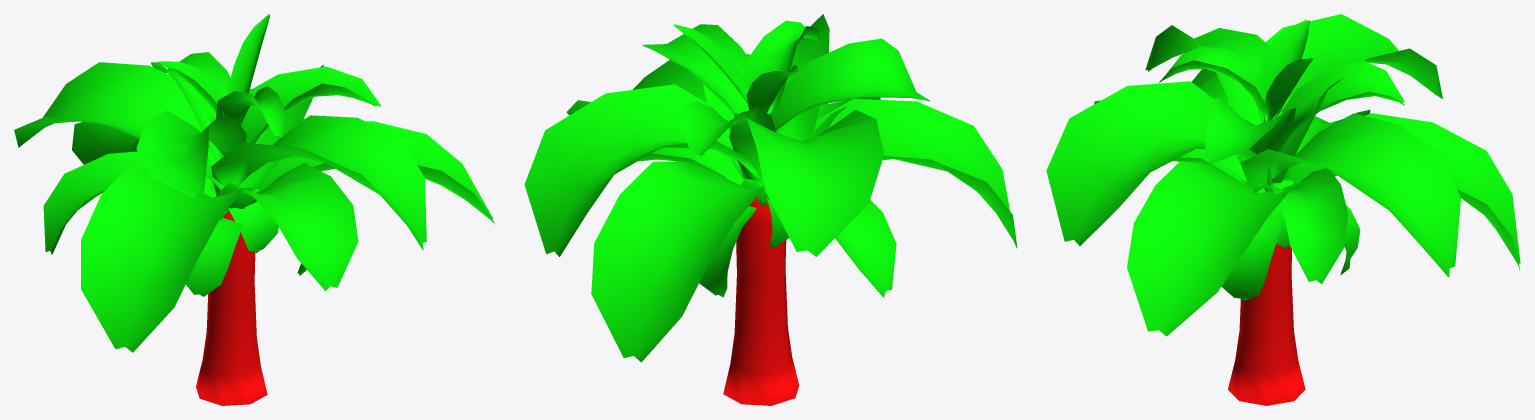
The model's file is Palm02_Big_2018.FBX.
The picture shows the model from 3 angles, left to right: view 1: azimuth 30°, elevation 25°; view 2: azimuth 150°, elevation 25°; view 3: azimuth 270°, elevation 25°; orthographic projection. The views are drawn at different scales.
Parts seen in each view (by area): view 1: Palm02Big_Leafs_LOD0, Palm02Big_Trunk_LOD0; view 2: Palm02Big_Leafs_LOD0, Palm02Big_Trunk_LOD0; view 3: Palm02Big_Leafs_LOD0, Palm02Big_Trunk_LOD0.
Part boxes in pixels (box(x1,y1,x2,y2)): Palm02Big_Leafs_LOD0: box(14, 14, 495, 352); Palm02Big_Trunk_LOD0: box(196, 212, 267, 405); Palm02Big_Leafs_LOD0: box(524, 14, 1017, 362); Palm02Big_Trunk_LOD0: box(723, 187, 799, 405); Palm02Big_Leafs_LOD0: box(1046, 14, 1520, 336); Palm02Big_Trunk_LOD0: box(1228, 191, 1305, 405).
Size of what is drawn, in the model's own units: 50.68 by 41.09 by 48.74.
